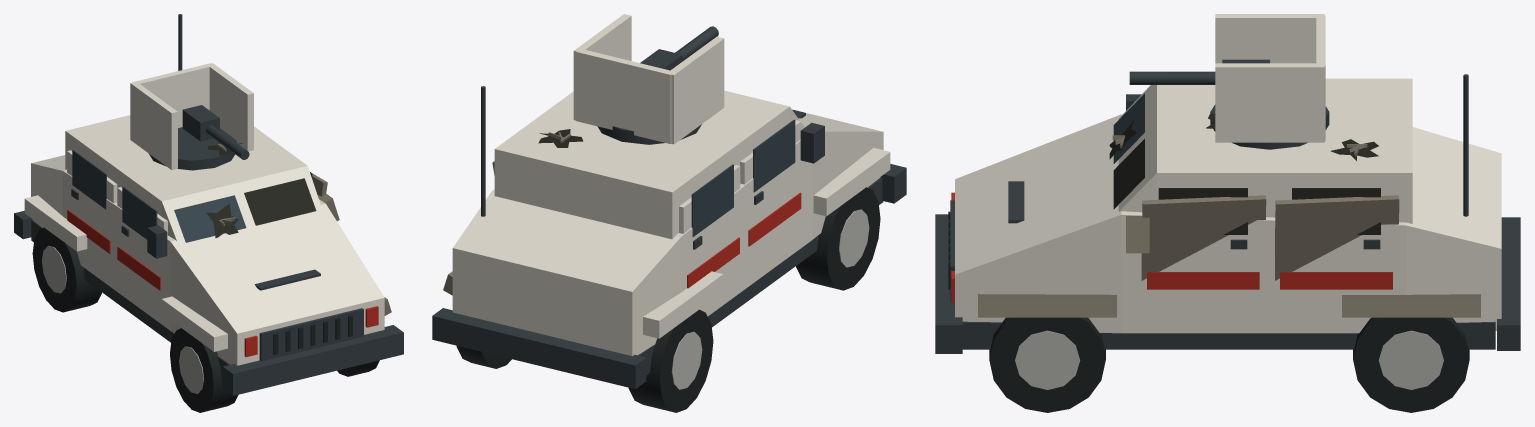
3 views of the same model, side by side, from view 1: azimuth 30°, elevation 25°; view 2: azimuth 150°, elevation 25°; view 3: azimuth 270°, elevation 25° (orthographic). The views are drawn at different scales.
Visible parts, largest first — view 1: humvee-damaged-fleet-armor, humvee-damaged-fleet-machine, turret-fleet-armor, humvee-damaged-fleet-glass, humvee-damaged-fleet-damage-charred, wheel--1--1.54-fleet-rubber, wheel--1-1.52-fleet-rubber, humvee-damaged-fleet-red, turret-fleet-machine, barrel-fleet-machine, wheel--1--1.54-fleet-edge, wheel--1-1.52-fleet-edge (+2 smaller); view 2: humvee-damaged-fleet-armor, turret-fleet-armor, humvee-damaged-fleet-machine, wheel--1-1.52-fleet-rubber, wheel--1--1.54-fleet-rubber, humvee-damaged-fleet-glass, humvee-damaged-fleet-red, wheel--1-1.52-fleet-edge, wheel--1--1.54-fleet-edge, barrel-fleet-machine, wheel-1--1.54-fleet-rubber, turret-fleet-machine; view 3: humvee-damaged-fleet-armor, humvee-damaged-fleet-damage-metal, turret-fleet-armor, humvee-damaged-fleet-machine, wheel-1-1.52-fleet-rubber, wheel-1--1.54-fleet-rubber, humvee-damaged-fleet-damage-charred, humvee-damaged-fleet-red, wheel-1--1.54-fleet-edge, wheel-1-1.52-fleet-edge, barrel-fleet-machine, humvee-damaged-fleet-glass (+1 smaller).
Boxes of the visible parts, x1,y1,x2,y2 form: humvee-damaged-fleet-armor: [24, 115, 384, 365]; humvee-damaged-fleet-machine: [14, 14, 403, 395]; turret-fleet-armor: [130, 63, 253, 169]; humvee-damaged-fleet-glass: [72, 150, 246, 242]; humvee-damaged-fleet-damage-charred: [206, 142, 316, 238]; wheel--1--1.54-fleet-rubber: [32, 227, 101, 312]; wheel--1-1.52-fleet-rubber: [170, 328, 238, 412]; humvee-damaged-fleet-red: [67, 210, 378, 357]; turret-fleet-machine: [149, 127, 236, 170]; barrel-fleet-machine: [182, 105, 249, 159]; wheel--1--1.54-fleet-edge: [41, 246, 66, 293]; wheel--1-1.52-fleet-edge: [179, 346, 203, 393]; humvee-damaged-fleet-armor: [452, 90, 890, 356]; turret-fleet-armor: [573, 14, 724, 144]; humvee-damaged-fleet-machine: [432, 86, 906, 389]; wheel--1-1.52-fleet-rubber: [796, 187, 880, 290]; wheel--1--1.54-fleet-rubber: [628, 309, 713, 412]; humvee-damaged-fleet-glass: [691, 120, 795, 236]; humvee-damaged-fleet-red: [687, 192, 801, 288]; wheel--1-1.52-fleet-edge: [839, 209, 869, 267]; wheel--1--1.54-fleet-edge: [671, 331, 702, 389]; barrel-fleet-machine: [640, 26, 718, 70]; wheel-1--1.54-fleet-rubber: [456, 346, 511, 368]; turret-fleet-machine: [597, 124, 701, 144]; humvee-damaged-fleet-armor: [955, 78, 1501, 333]; humvee-damaged-fleet-damage-metal: [978, 135, 1480, 317]; turret-fleet-armor: [1215, 14, 1325, 142]; humvee-damaged-fleet-machine: [935, 74, 1520, 353]; wheel-1-1.52-fleet-rubber: [989, 317, 1105, 412]; wheel-1--1.54-fleet-rubber: [1353, 317, 1469, 412]; humvee-damaged-fleet-damage-charred: [1109, 113, 1380, 234]; humvee-damaged-fleet-red: [951, 192, 1392, 302]; wheel-1--1.54-fleet-edge: [1378, 330, 1443, 389]; wheel-1-1.52-fleet-edge: [1015, 330, 1080, 389]; barrel-fleet-machine: [1129, 59, 1269, 84]; humvee-damaged-fleet-glass: [1113, 93, 1144, 163].
Bounding box in the file's own units: 12.87 × 16.35 × 26.84.
